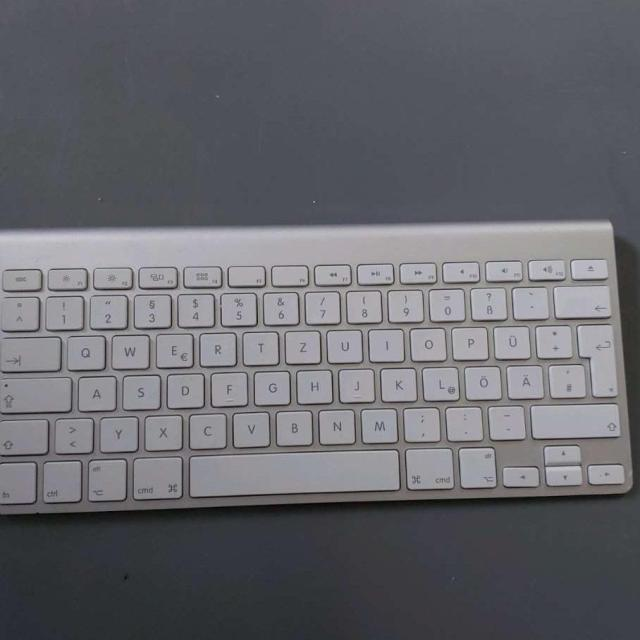0: (427, 286, 465, 321)
1: (44, 293, 83, 329)
2: (87, 293, 127, 328)
3: (131, 292, 171, 328)
4: (176, 291, 215, 326)
5: (219, 291, 257, 326)
6: (261, 290, 299, 324)
7: (303, 290, 340, 324)
8: (344, 288, 381, 322)
9: (385, 288, 424, 322)
a: (76, 373, 116, 411)
accent: (510, 285, 548, 319)
ae: (505, 363, 543, 398)
alt-left: (85, 456, 126, 501)
altgr-right: (457, 444, 497, 488)
b: (274, 408, 313, 445)
c: (186, 412, 226, 449)
caret: (0, 294, 39, 329)
comma: (400, 405, 440, 441)
d: (164, 371, 204, 408)
del: (552, 283, 610, 318)
e: (154, 331, 193, 367)
enter: (574, 319, 617, 395)
f: (209, 370, 247, 406)
g: (252, 369, 290, 405)
h: (294, 367, 332, 403)
hash: (547, 362, 585, 397)
i: (366, 325, 404, 361)
j: (336, 366, 374, 402)
k: (379, 365, 417, 401)
keyboard: (0, 215, 638, 518)
l: (420, 364, 459, 400)
less: (52, 416, 93, 453)
m: (358, 405, 398, 443)
minus: (485, 404, 525, 439)
n: (316, 407, 355, 444)
o: (408, 326, 446, 361)
oe: (463, 364, 502, 399)
p: (450, 324, 488, 359)
plus: (533, 322, 571, 358)
point: (443, 404, 482, 440)
q: (64, 333, 106, 370)
r: (197, 330, 236, 366)
s: (121, 373, 160, 410)
shift-left: (0, 416, 47, 454)
shift-lock: (0, 375, 70, 414)
shift-right: (528, 401, 618, 438)
space: (188, 448, 398, 495)
ss: (469, 286, 506, 320)
strg-left: (39, 457, 82, 502)
t: (241, 329, 278, 364)
tab: (0, 334, 60, 371)
u: (325, 327, 363, 363)
ue: (491, 324, 530, 359)
v: (230, 409, 270, 446)
w: (109, 332, 149, 369)
x: (143, 413, 183, 450)
y: (97, 414, 138, 452)
z: (283, 328, 320, 364)
